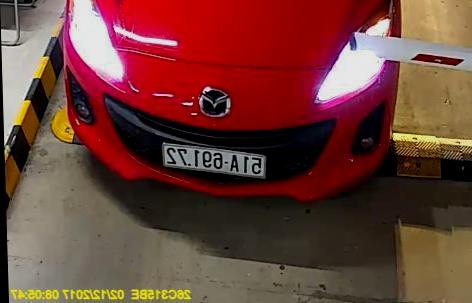License_Plate: (158, 145, 268, 177)
